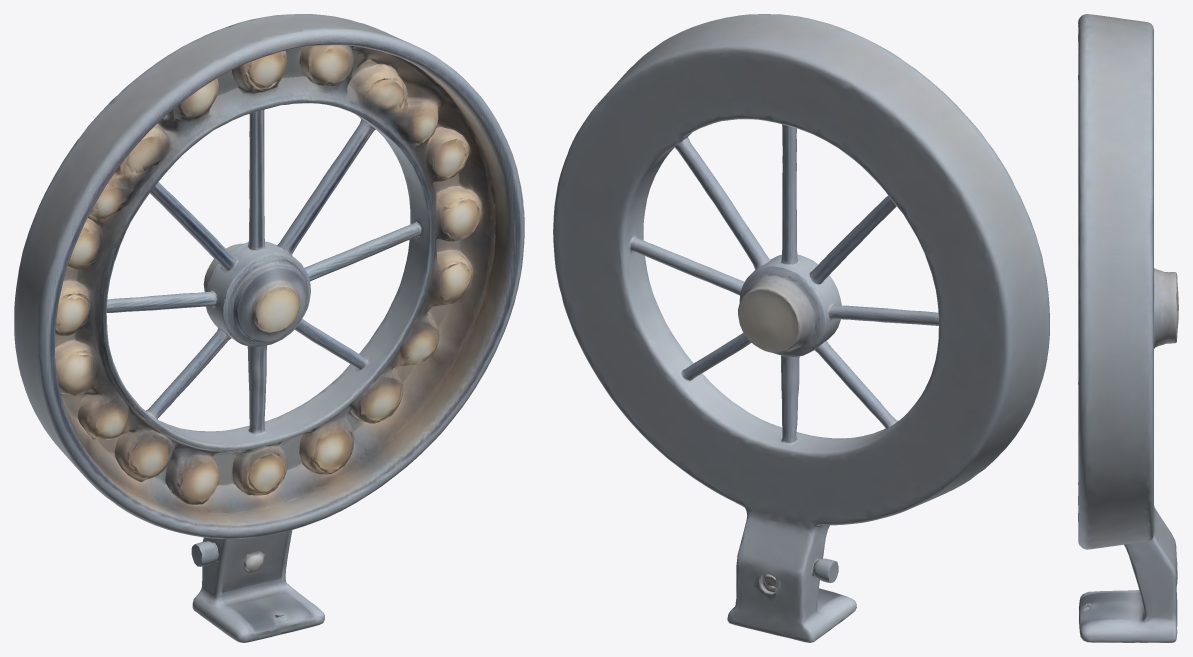
Rendered from head_halo.glb.
The picture shows the model from 3 angles, left to right: view 1: azimuth 30°, elevation 25°; view 2: azimuth 150°, elevation 25°; view 3: azimuth 270°, elevation 25°; orthographic projection. The views are drawn at different scales.
Visible parts, largest first — view 1: Mesh; view 2: Mesh; view 3: Mesh.
Boxes of the visible parts, x1,y1,x2,y2 form: Mesh: [14, 14, 524, 642]; Mesh: [553, 14, 1049, 642]; Mesh: [1078, 14, 1178, 642].
Bounding box in the file's own units: 1.62 × 1.91 × 0.2979.
Materials: 1 (1 with a texture image).
